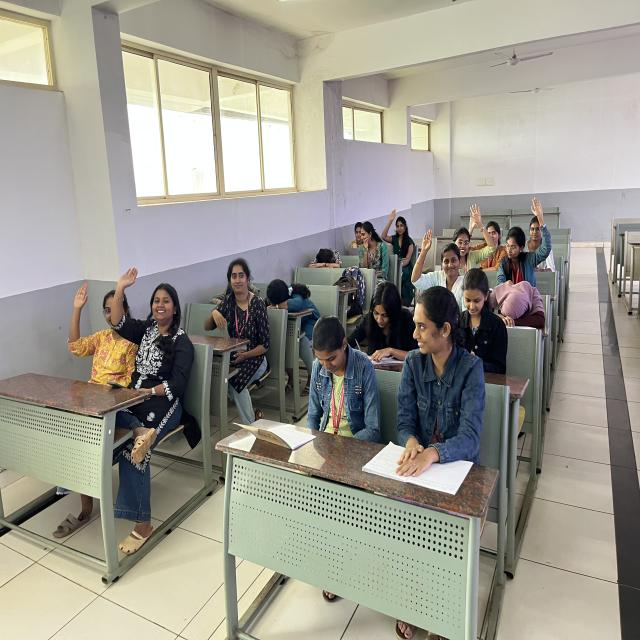Hand Rising: (107, 264, 200, 398), (64, 269, 137, 391), (502, 191, 552, 289), (453, 200, 498, 282), (408, 228, 469, 284), (378, 197, 414, 270)
Sleeping: (256, 270, 325, 334), (484, 278, 551, 332), (308, 242, 349, 276)
Using Phone: (298, 310, 382, 433)
Writing: (336, 273, 417, 363)
